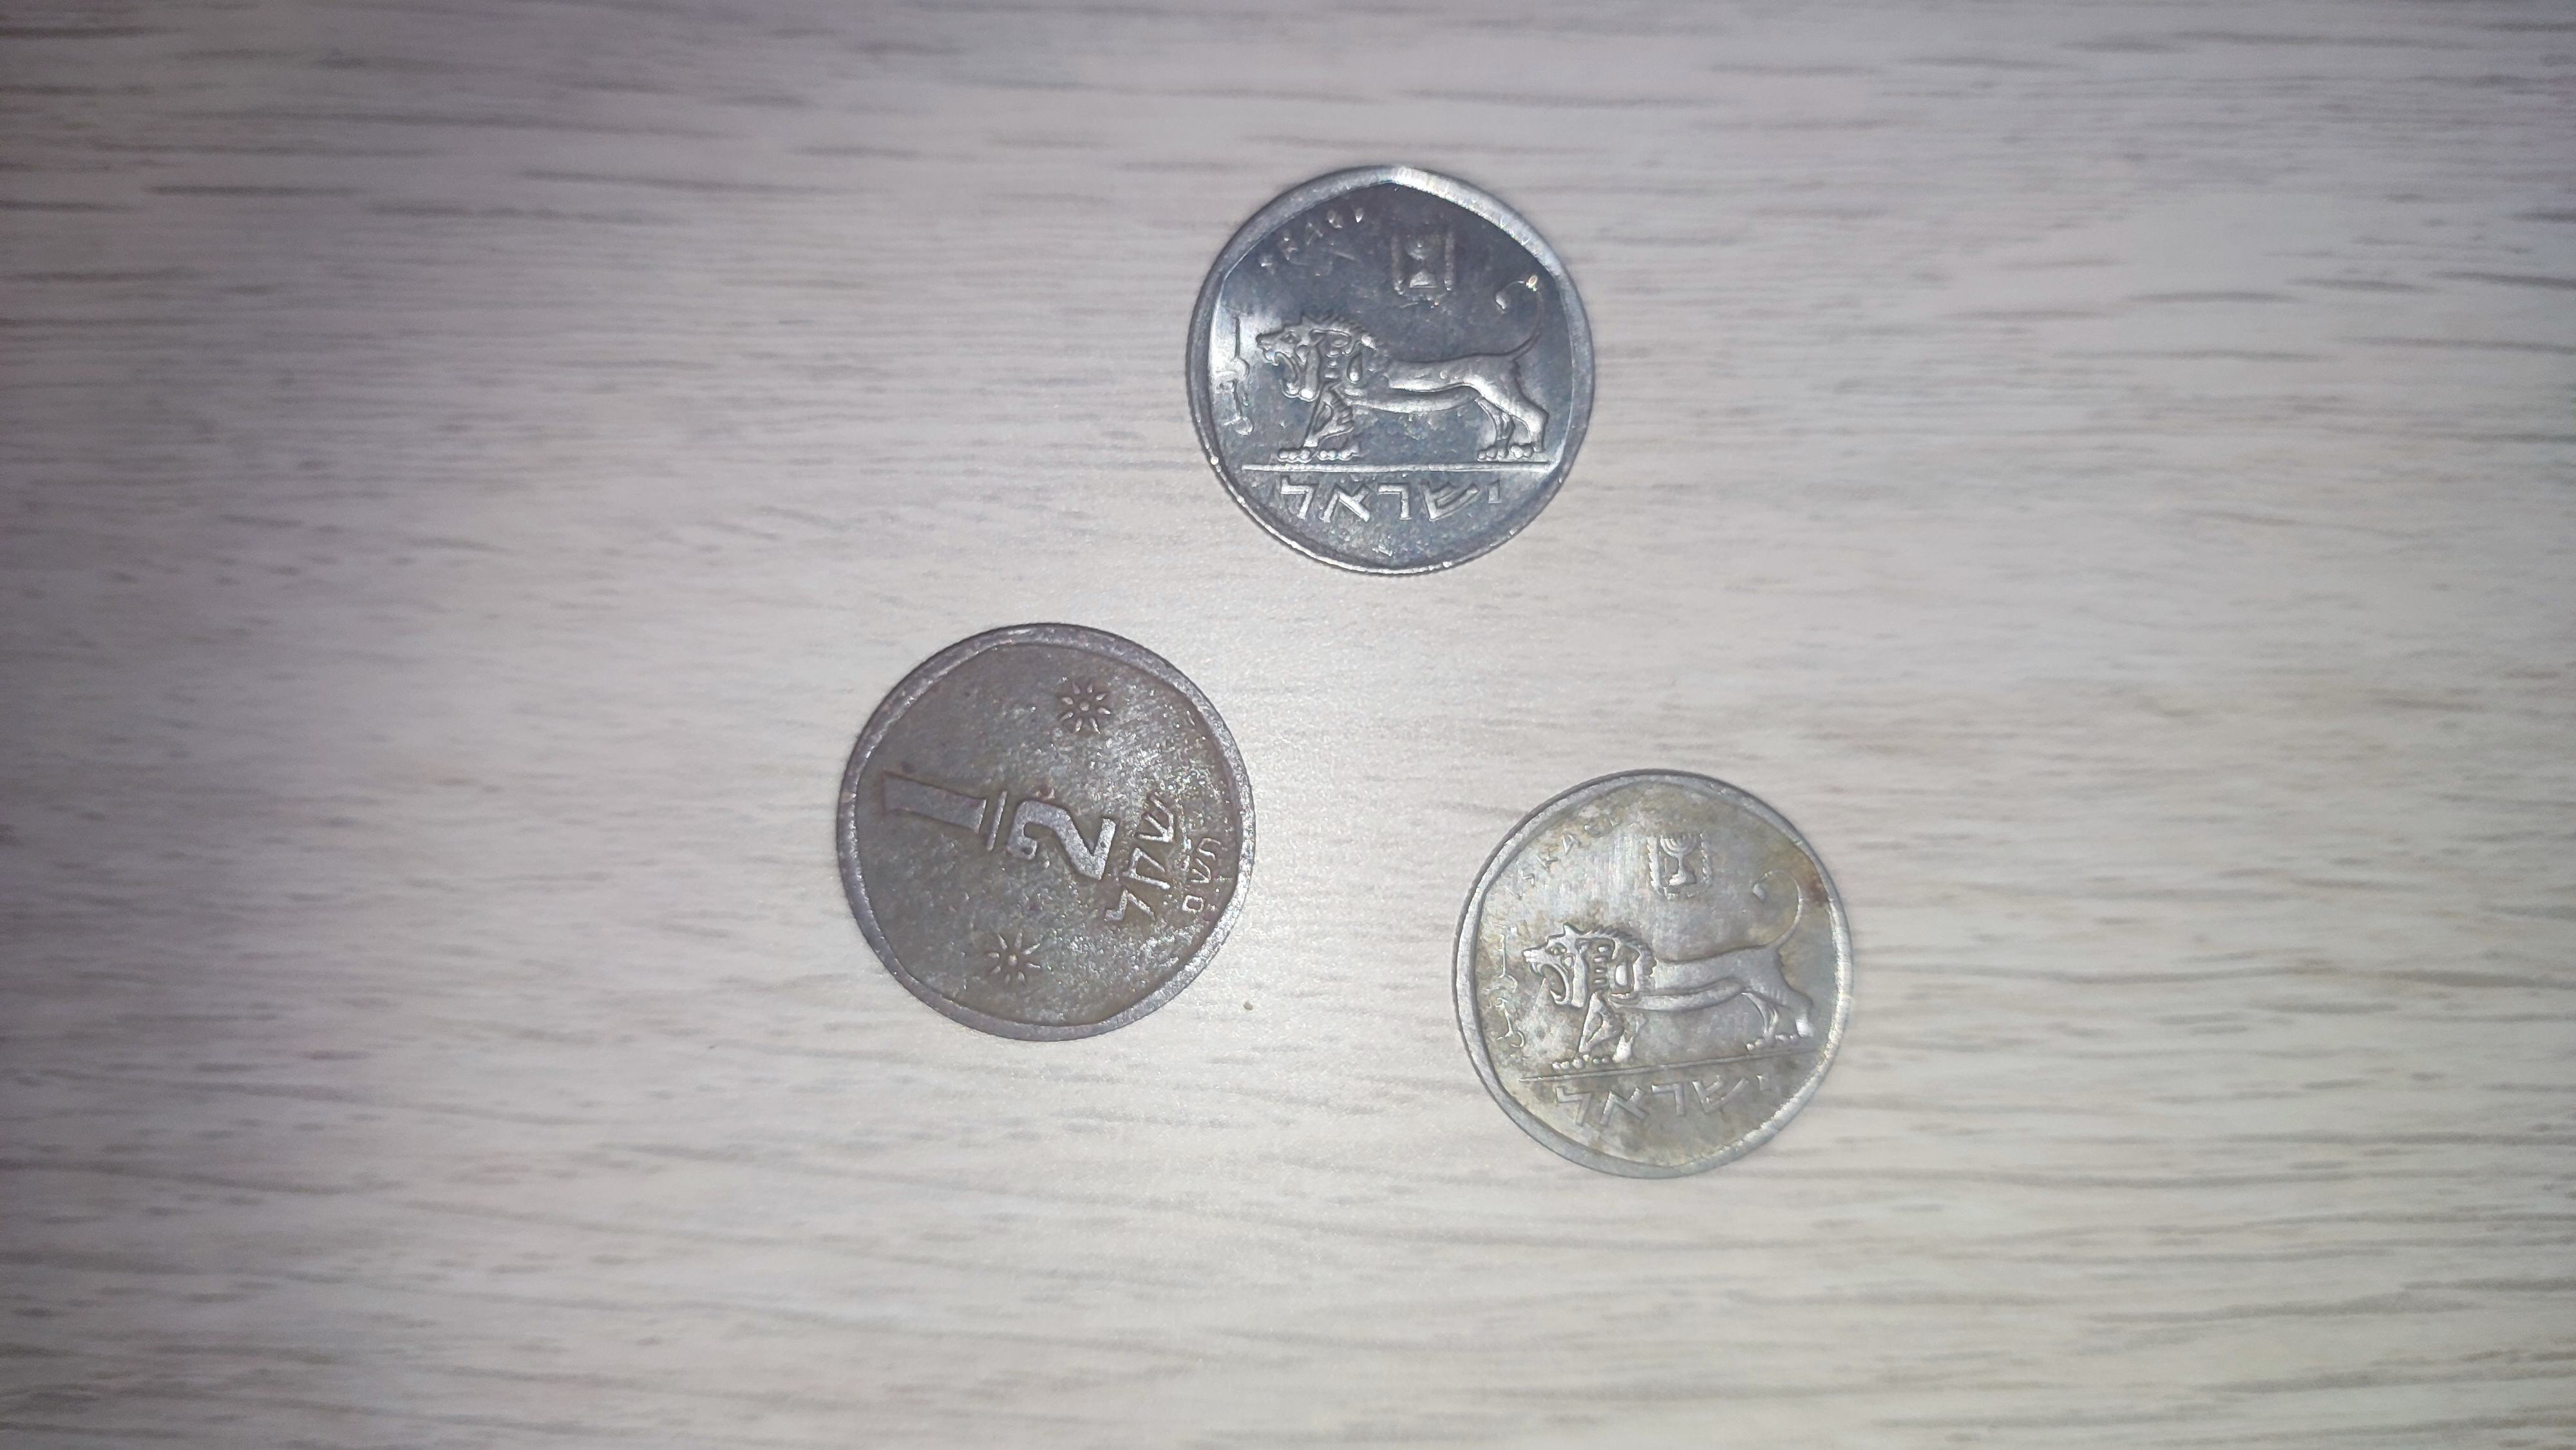1/2 old sheqel: (830, 619, 1265, 1052), (1178, 157, 1608, 578), (1447, 760, 1861, 1185)
